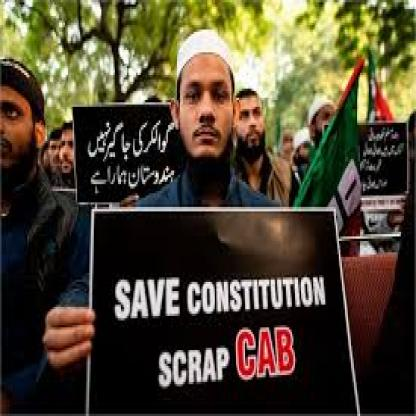BANNER: (89, 209, 357, 411)
